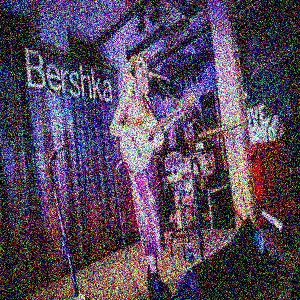bershka: (112, 51, 135, 96)
